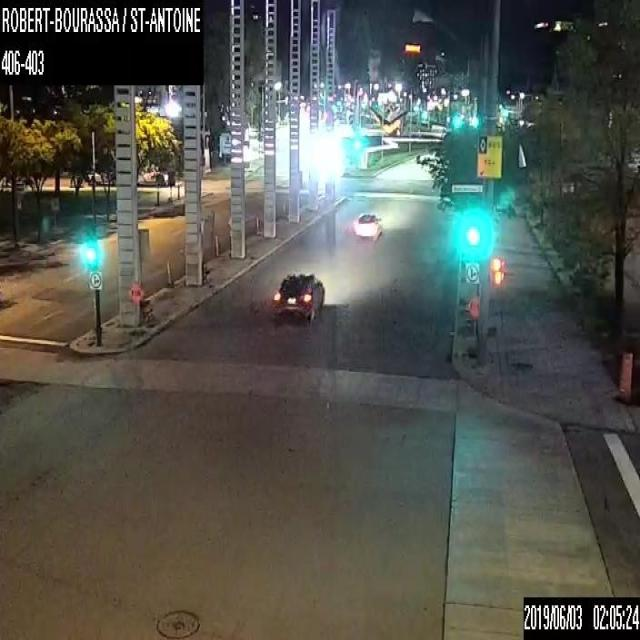construction: (136, 227, 152, 321), (200, 209, 214, 283), (615, 350, 633, 403), (128, 282, 145, 334), (465, 295, 479, 357)
vehicle: (274, 271, 324, 320), (355, 210, 382, 238), (137, 164, 168, 184)
